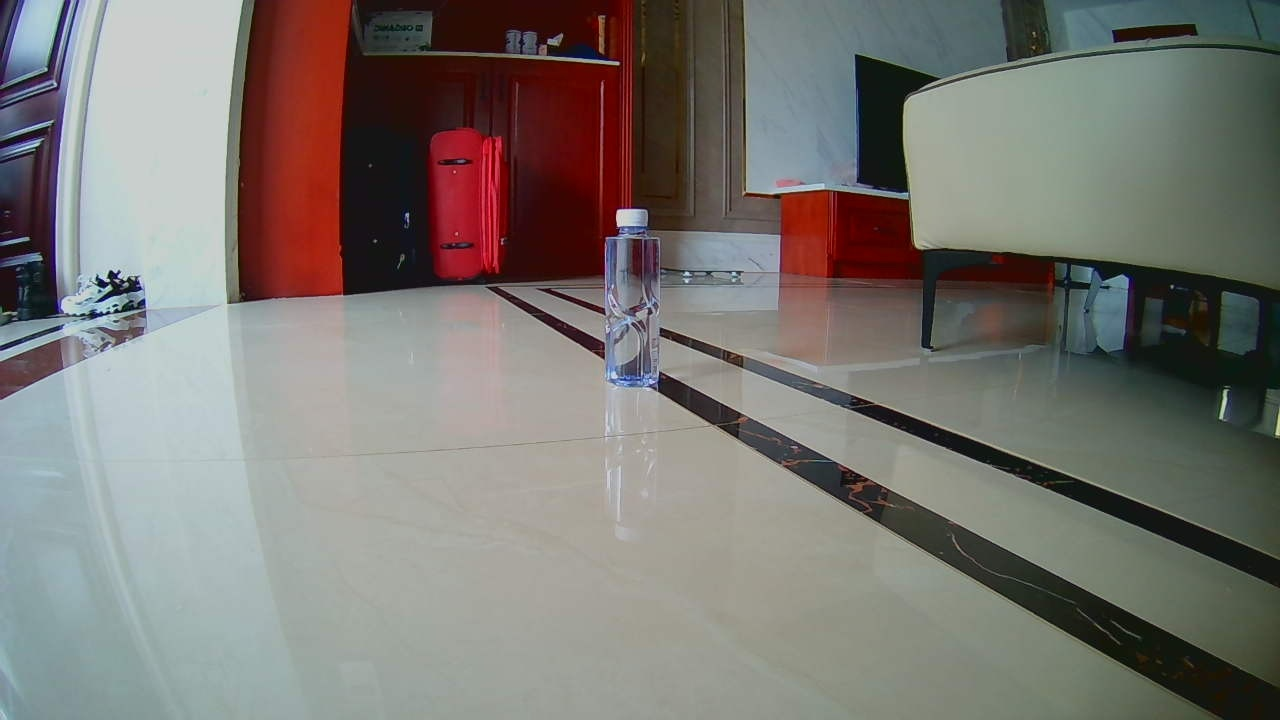water: (604, 207, 660, 387)
